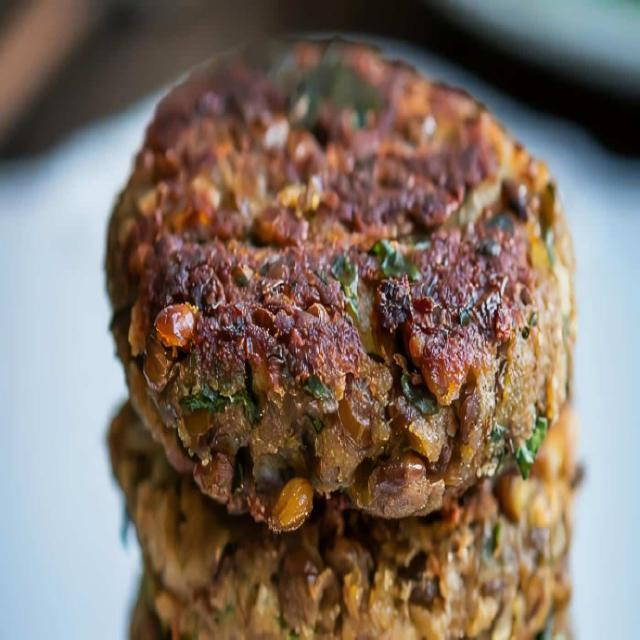carne de cerdo: (101, 27, 583, 522)
